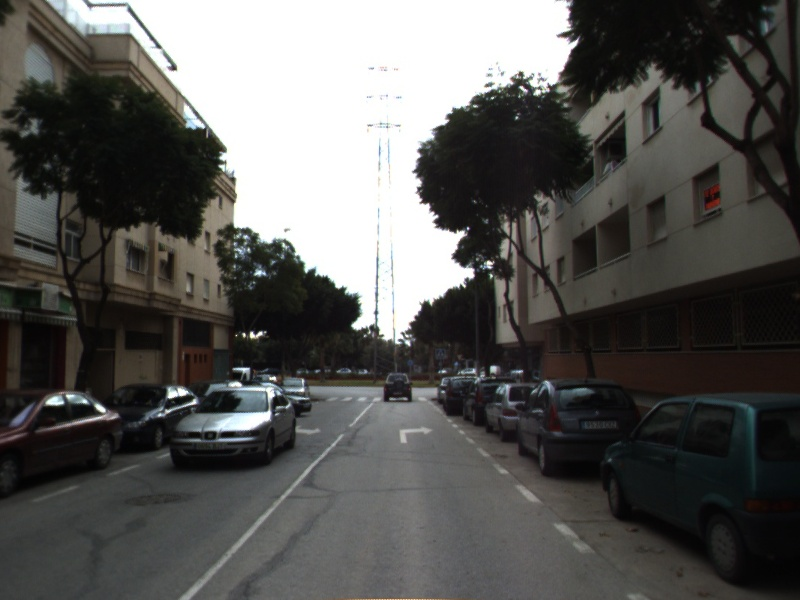RIGHT: (397, 424, 437, 445)
